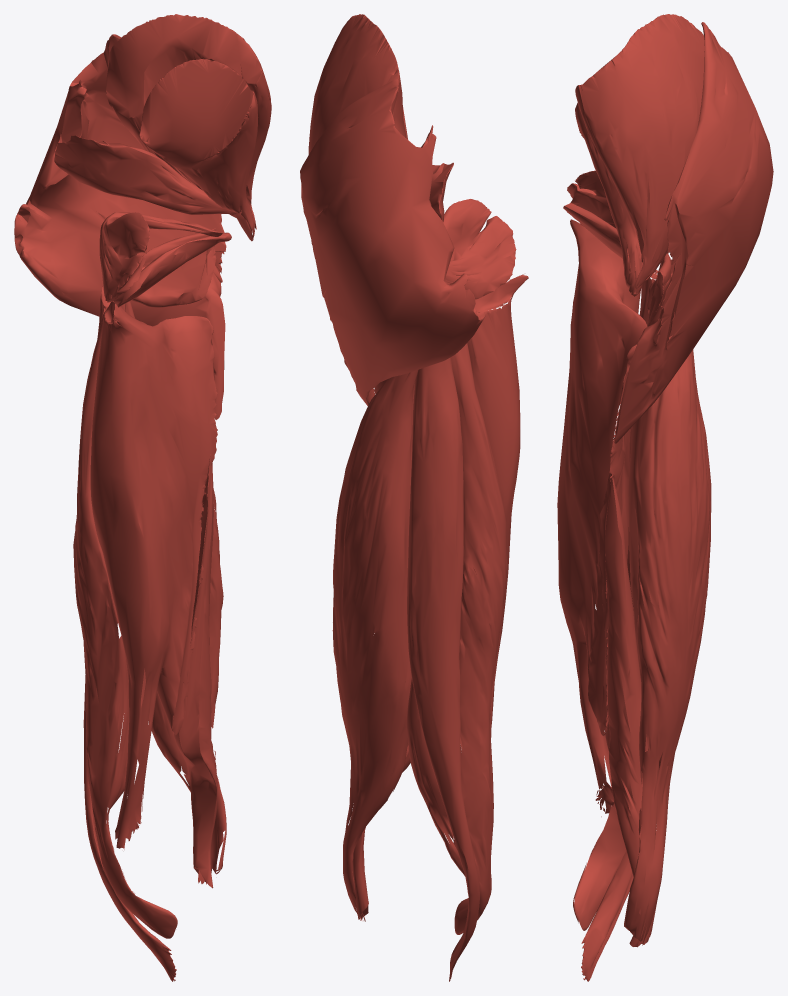
The model's file is thighb.glb.
3 renders of one model, left to right at view 1: azimuth 30°, elevation 25°; view 2: azimuth 150°, elevation 25°; view 3: azimuth 270°, elevation 25°, orthographic. The views are drawn at different scales.
Visible parts, largest first — view 1: left adductor magnus, left gluteus maximus, left semimembranosus, left gluteus minimus, left gluteus medius, short head of left biceps femoris, left piriformis, long head of left biceps femoris, left obturator internus, left quadratus femoris, left semitendinosus, left obturator externus; view 2: left gluteus maximus, long head of left biceps femoris, left semitendinosus, left semimembranosus, left adductor magnus, left gluteus medius, left obturator internus, short head of left biceps femoris, left piriformis; view 3: long head of left biceps femoris, left adductor magnus, left gluteus maximus, left gluteus medius, short head of left biceps femoris, left semimembranosus, left gluteus minimus, left semitendinosus, left obturator internus, left obturator externus, left quadratus femoris.
Part boxes in pixels (x1=…): left adductor magnus: x1=90, y1=301, x2=217, y2=849; left gluteus maximus: x1=14, y1=34, x2=226, y2=419; left semimembranosus: x1=73, y1=304, x2=177, y2=938; left gluteus minimus: x1=139, y1=59, x2=257, y2=241; left gluteus medius: x1=105, y1=14, x2=271, y2=229; short head of left biceps femoris: x1=174, y1=455, x2=217, y2=888; left piriformis: x1=54, y1=135, x2=241, y2=214; long head of left biceps femoris: x1=125, y1=301, x2=226, y2=884; left obturator internus: x1=99, y1=212, x2=222, y2=302; left quadratus femoris: x1=131, y1=228, x2=216, y2=307; left semitendinosus: x1=81, y1=286, x2=176, y2=981; left obturator externus: x1=113, y1=232, x2=231, y2=307; left gluteus maximus: x1=300, y1=78, x2=485, y2=405; long head of left biceps femoris: x1=332, y1=369, x2=418, y2=921; left semitendinosus: x1=407, y1=357, x2=479, y2=981; left semimembranosus: x1=406, y1=343, x2=507, y2=934; left adductor magnus: x1=374, y1=274, x2=528, y2=849; left gluteus medius: x1=308, y1=14, x2=406, y2=154; left obturator internus: x1=443, y1=199, x2=516, y2=299; short head of left biceps femoris: x1=352, y1=628, x2=410, y2=919; left piriformis: x1=429, y1=162, x2=453, y2=221; long head of left biceps femoris: x1=624, y1=349, x2=711, y2=945; left adductor magnus: x1=557, y1=219, x2=647, y2=816; left gluteus maximus: x1=614, y1=22, x2=773, y2=443; left gluteus medius: x1=575, y1=14, x2=704, y2=288; short head of left biceps femoris: x1=599, y1=473, x2=656, y2=947; left semimembranosus: x1=573, y1=269, x2=662, y2=930; left gluteus minimus: x1=575, y1=103, x2=642, y2=296; left semitendinosus: x1=581, y1=259, x2=675, y2=981; left obturator internus: x1=567, y1=170, x2=628, y2=257; left obturator externus: x1=563, y1=203, x2=638, y2=278; left quadratus femoris: x1=647, y1=253, x2=671, y2=326.
Size of the model in its own units: 0.1513 by 0.6678 by 0.1329.
